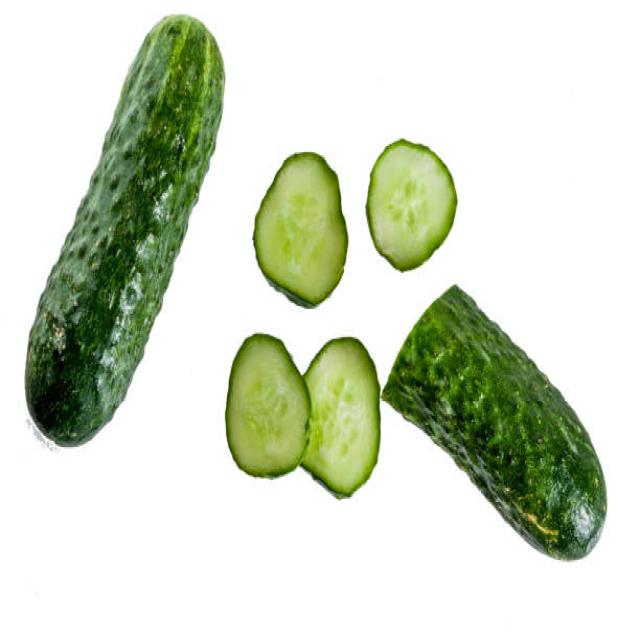cucumber: (23, 15, 225, 451), (382, 281, 607, 561)
